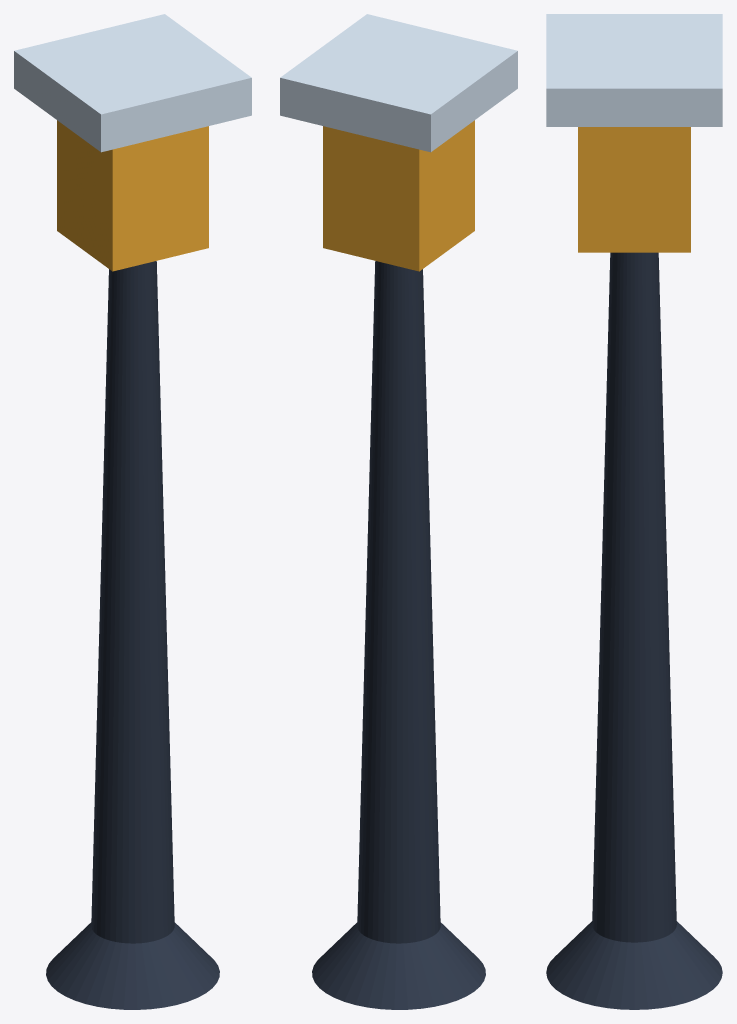
Rendered from lamp.obj.
The picture shows the model from 3 angles, left to right: view 1: azimuth 30°, elevation 25°; view 2: azimuth 150°, elevation 25°; view 3: azimuth 270°, elevation 25°; orthographic projection.
Size of the model in its own units: 0.5 by 2.88 by 0.5.
